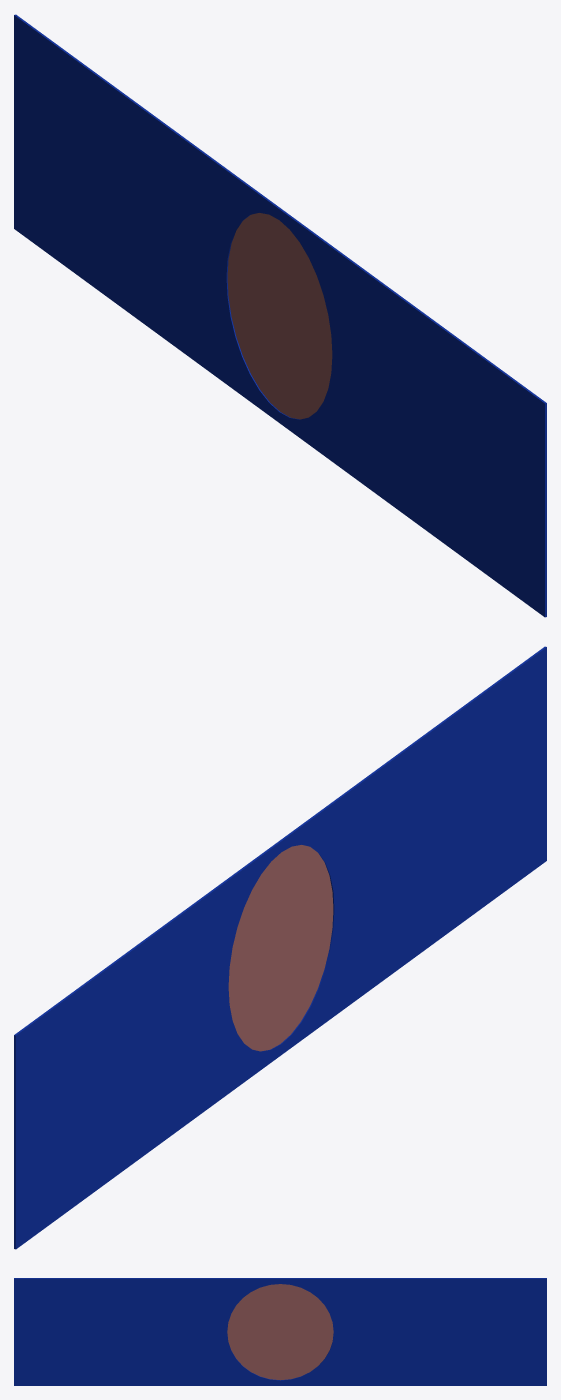
The model's file is 10x45 cornhole.FBX.
3 views of the same model, one above another, from view 1: azimuth 30°, elevation 25°; view 2: azimuth 150°, elevation 25°; view 3: azimuth 270°, elevation 25° (orthographic). The views are drawn at different scales.
Parts seen in each view (by area): view 1: Box013; view 2: Box013; view 3: Box013.
Boxes of the visible parts, <box> form: Box013: <box>14,14,546,617</box>; Box013: <box>14,646,546,1249</box>; Box013: <box>14,1278,546,1385</box>.
Size of the model in its own units: 0.1 by 10 by 45.
